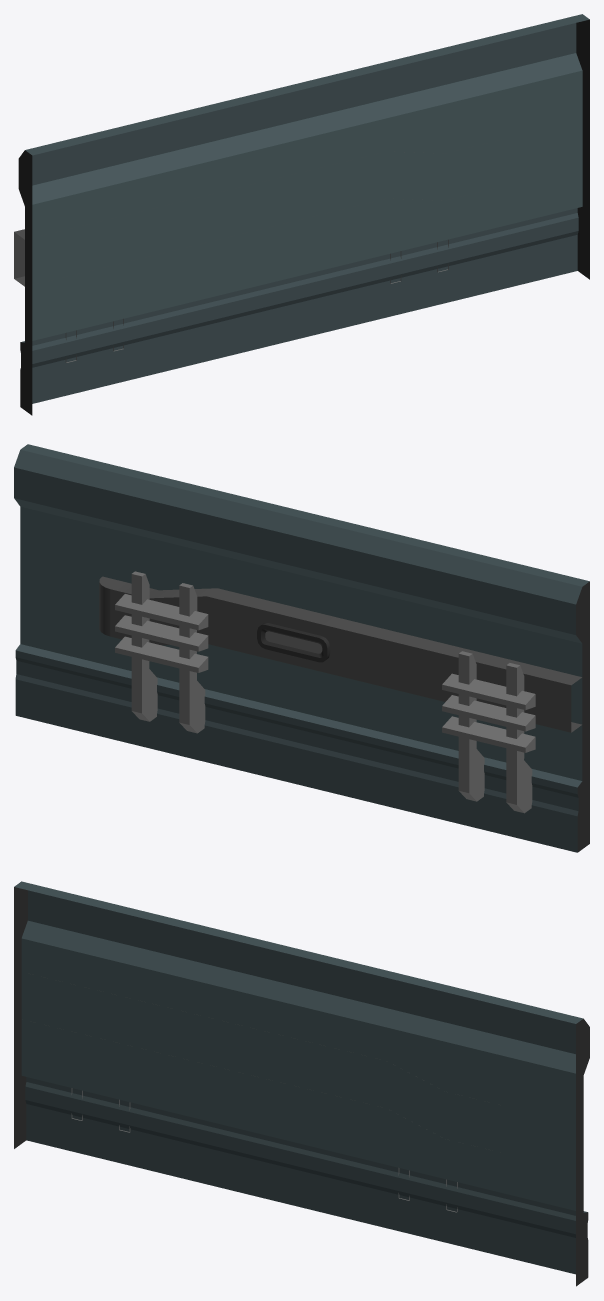
Rendered from SM_wall_front_01.fbx.
The picture shows the model from 3 angles, top to bottom: view 1: azimuth 30°, elevation 25°; view 2: azimuth 150°, elevation 25°; view 3: azimuth 330°, elevation 25°; orthographic projection.
Parts seen in each view (by area): view 1: SM_wall_front_01; view 2: SM_wall_front_01; view 3: SM_wall_front_01.
Part boxes in pixels (x1,y1,x2,y2): SM_wall_front_01: (14, 14, 589, 415); SM_wall_front_01: (14, 444, 589, 852); SM_wall_front_01: (14, 881, 589, 1286).
Size of the model in its own units: 300 by 134 by 29.58.
Materials: 2 (2 with a texture image).
